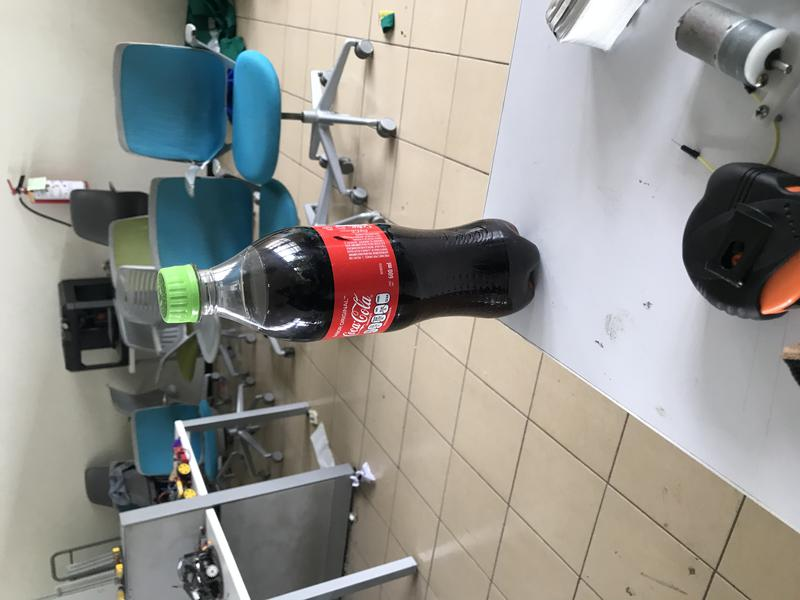coca_cola: (156, 219, 542, 344)
